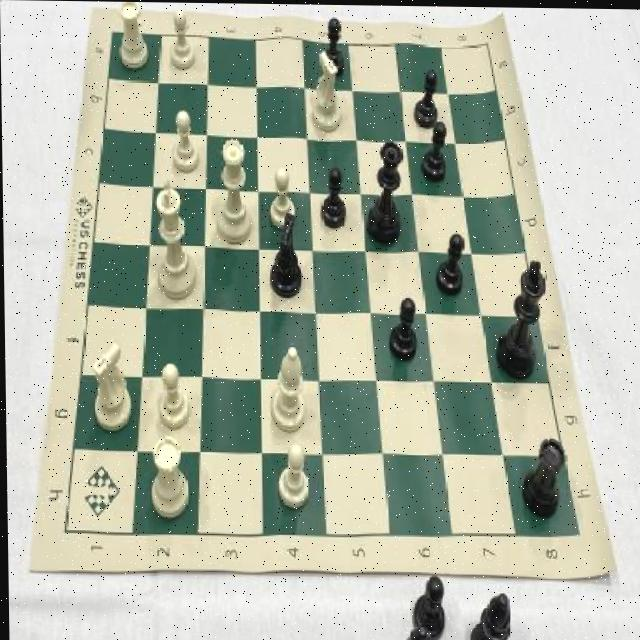black-bishop: (495, 252, 548, 383)
black-king: (264, 211, 308, 301)
black-knight: (383, 292, 422, 368), (316, 157, 351, 232), (417, 114, 450, 184), (434, 231, 467, 299), (410, 62, 441, 132), (320, 11, 350, 80)
black-pawn: (363, 135, 407, 249)
black-queen: (517, 430, 568, 521)
black-rook: (264, 340, 307, 436)
white-bishop: (148, 175, 198, 307)
white-king: (86, 338, 134, 436), (304, 40, 346, 136)
white-knight: (152, 358, 193, 433), (274, 439, 314, 512), (166, 103, 200, 178), (264, 163, 299, 228), (166, 7, 200, 70)
white-pawn: (211, 128, 255, 249)
white-queen: (142, 432, 197, 527), (112, 1, 152, 73)
